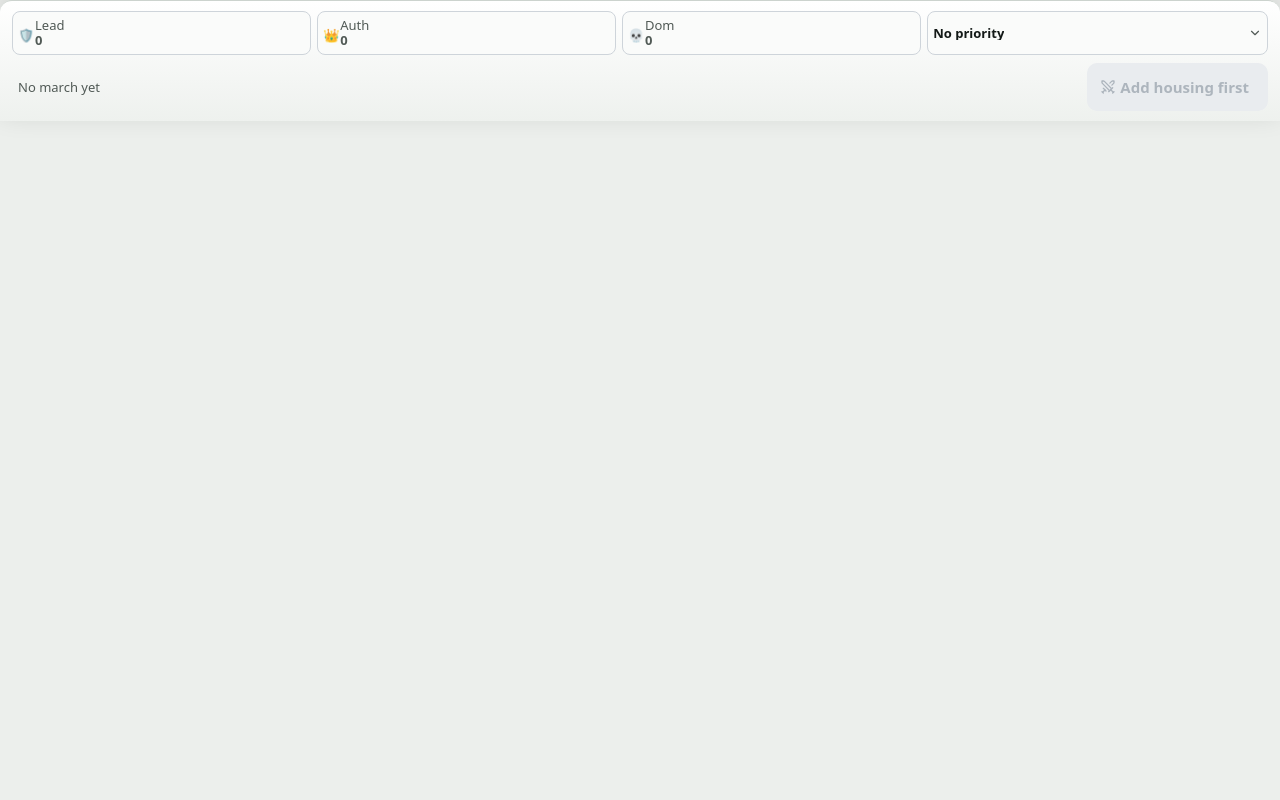
Scenario: the fourth chip opens the objective, and choosing one closes it
Click the button with aria-label "Objective: No priority": x=969, y=33 [927,11,1268,55]
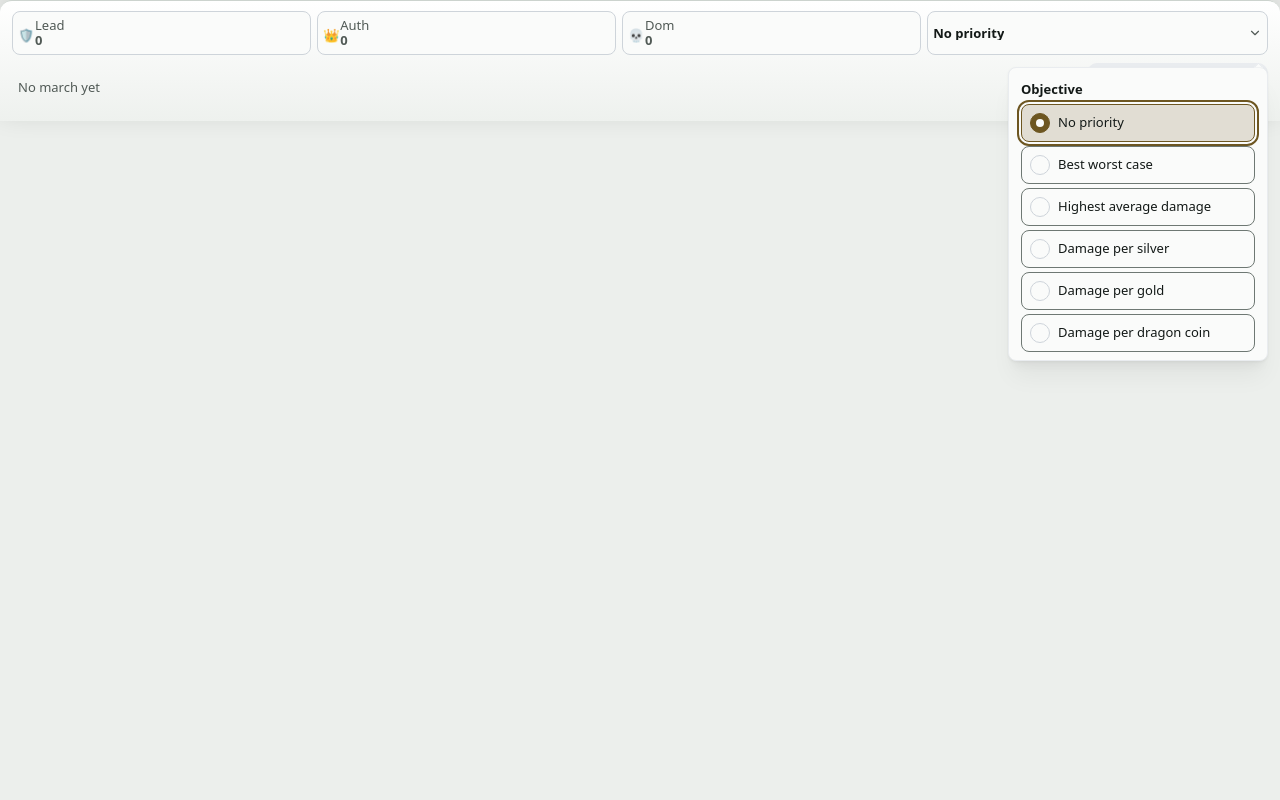
Expected: the number of radio buttons is 6
Click the radio button labelled "Damage per silver": x=1138, y=249 [1021,230,1255,268]
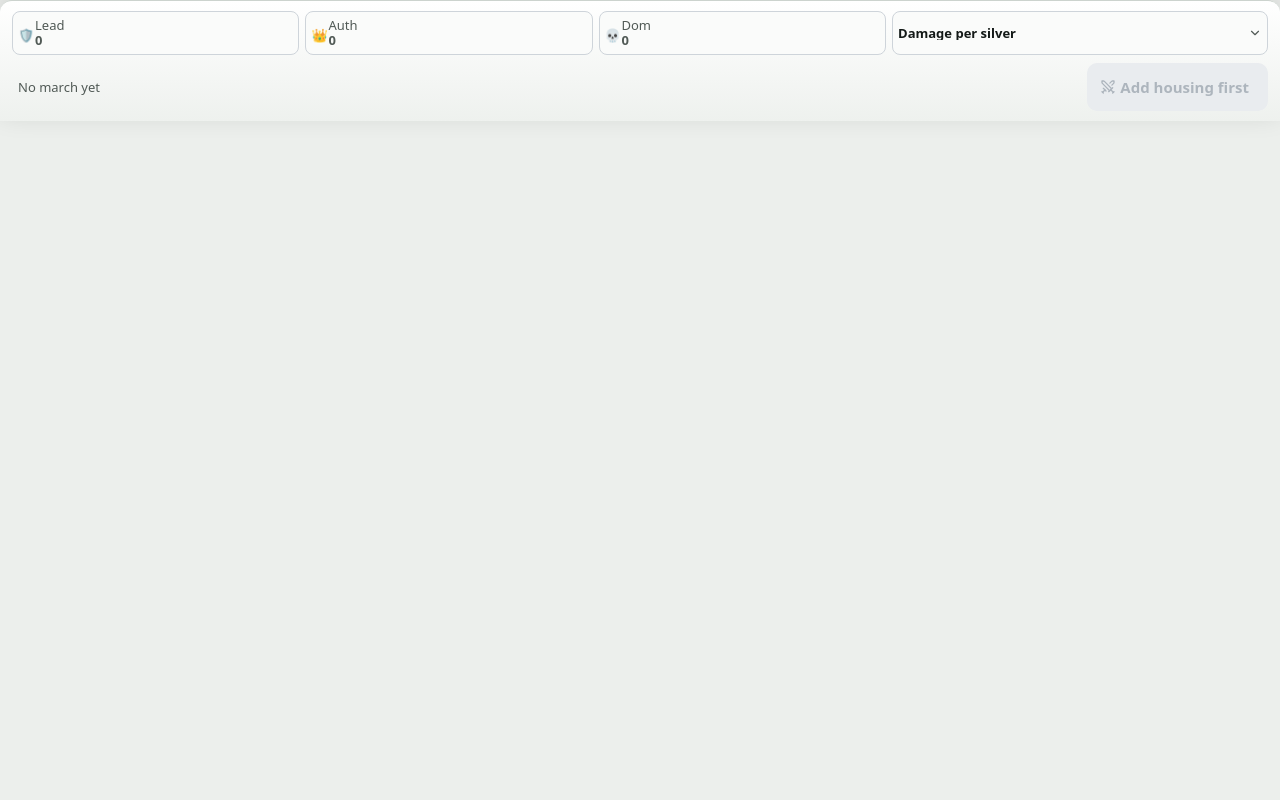
Expected: the button with aria-label "Objective: Damage per silver" is shown, [892,11,1268,55]
